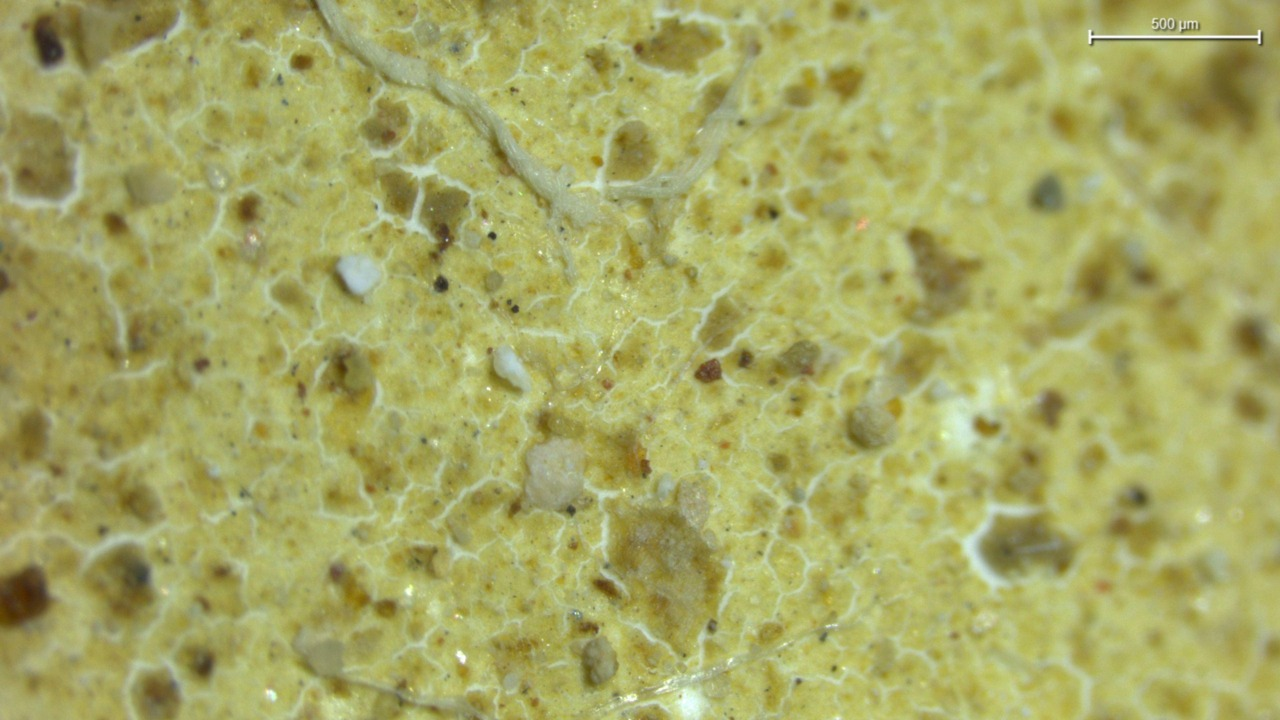microplastic_fragment: (523, 437, 585, 510), (335, 255, 381, 296), (492, 344, 531, 392), (581, 637, 617, 686)
